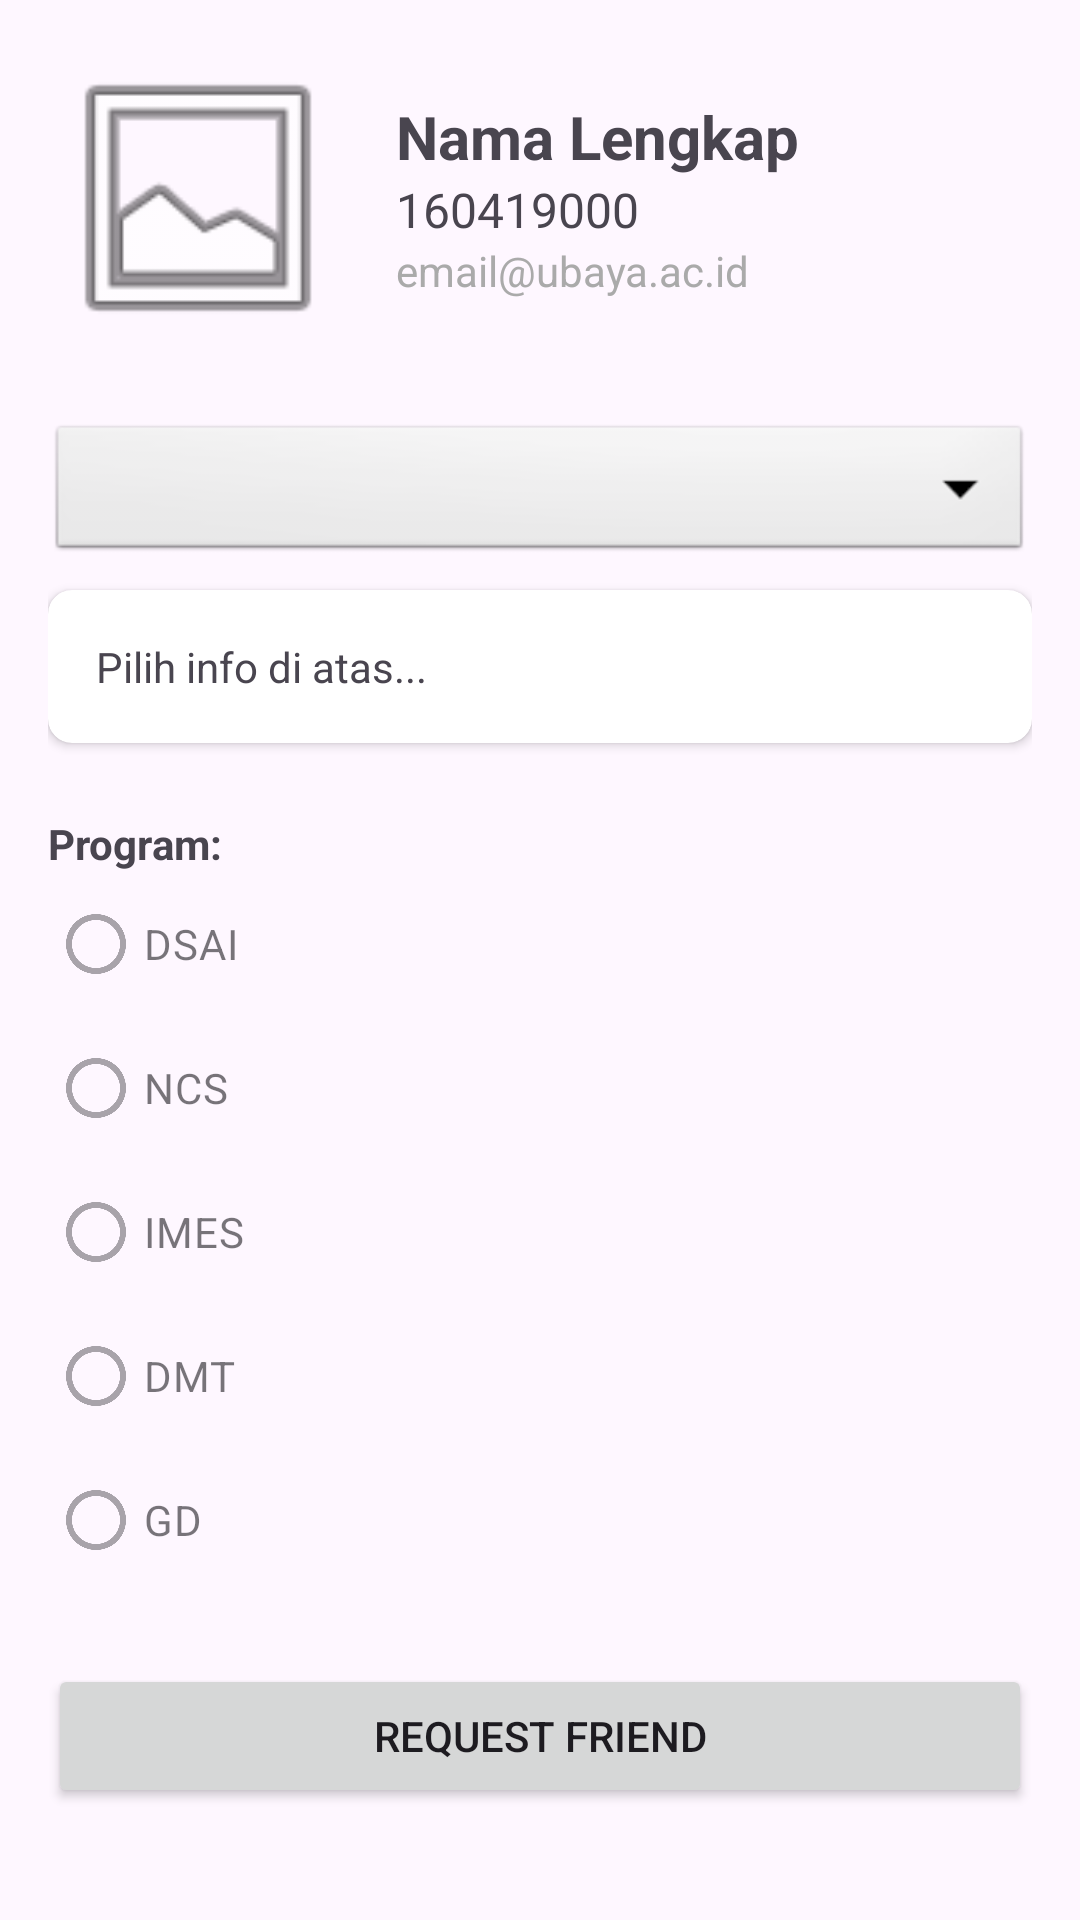

Icons on this 1080px×1920px Android screen, each with the point to tap as point (x, y):
gallery: point (198, 198)
